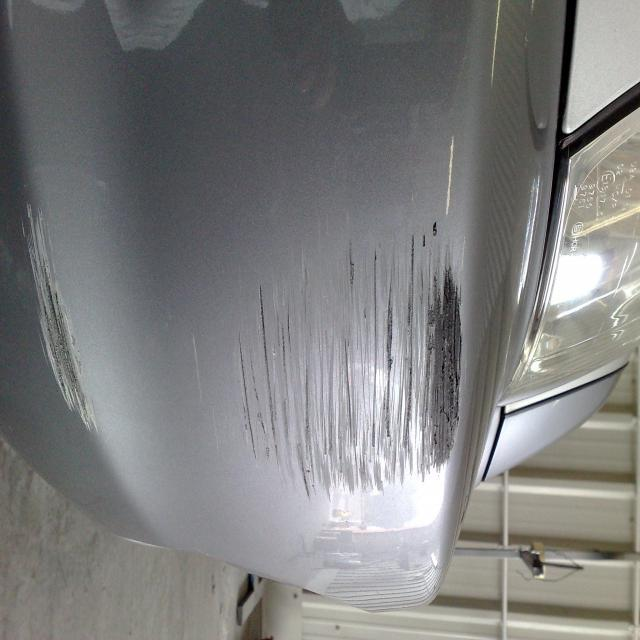scratch: (214, 205, 473, 496), (17, 181, 110, 457)
